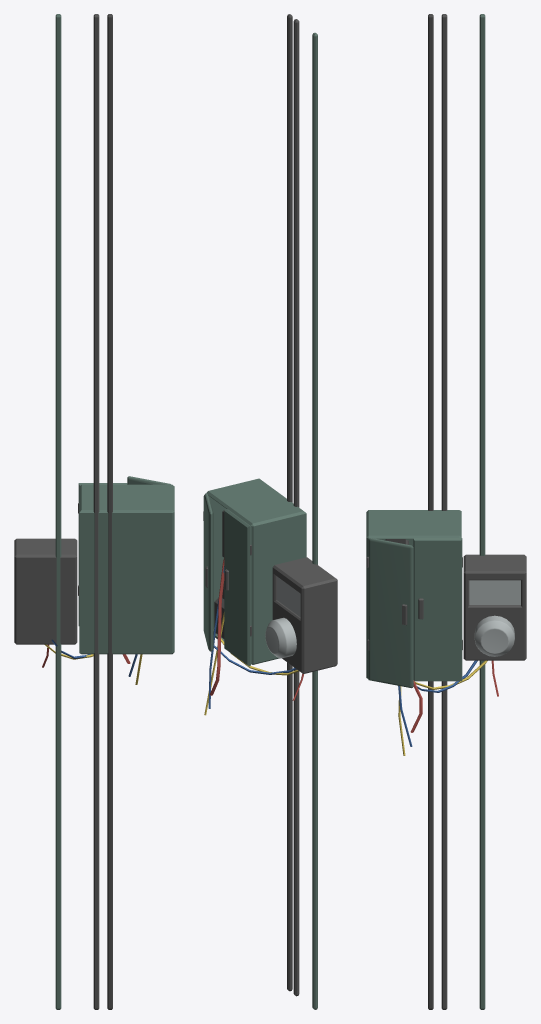
File: Electrical_Box.fbx
The picture shows the model from 3 angles, left to right: view 1: azimuth 90°, elevation 25°; view 2: azimuth 210°, elevation 25°; view 3: azimuth 270°, elevation 25°; orthographic projection.
Parts seen in each view (by area): view 1: pasted__pCube9; view 2: pasted__pCube9; view 3: pasted__pCube9.
Part boxes in pixels (x1,y1,x2,y2): pasted__pCube9: (14, 14, 174, 1009); pasted__pCube9: (203, 14, 337, 1009); pasted__pCube9: (366, 14, 526, 1009).
Size of the model in its own units: 0.8025 by 9.47 by 1.38.
